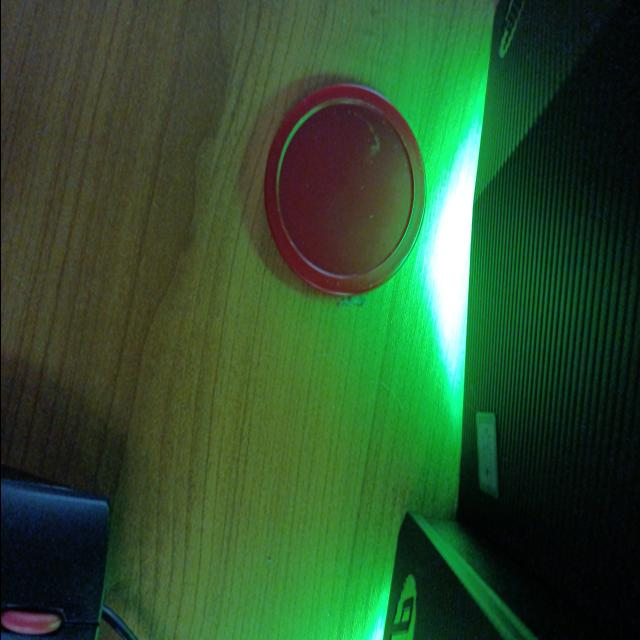chip: (264, 84, 426, 300)
